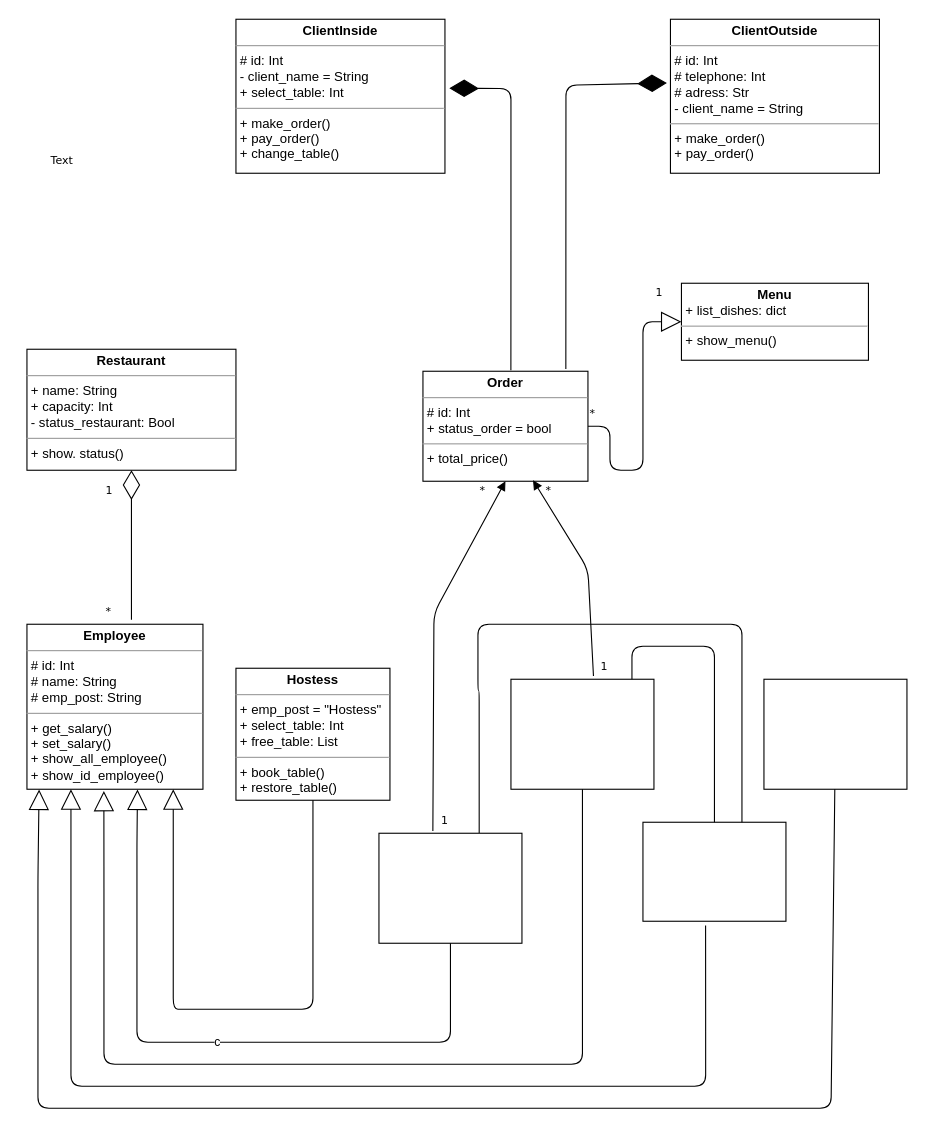
The diagram is 926 pixels wide and 1147 high, and some of its shapes have lost their labels. Each missing label, with the centre of its shape:
Administrator + emp_post = "Admin" - open_rest() - close_rest(): (x=835, y=733)
Chief + emp_post = "Chief" + cook_order(): (x=714, y=871)
Courier + emp_post = "Courier" + receive_order() + receive_payment(): (x=582, y=733)
Waiter + emp_post = "Waiter" + receive_order() + receive_payment(): (x=450, y=887)
